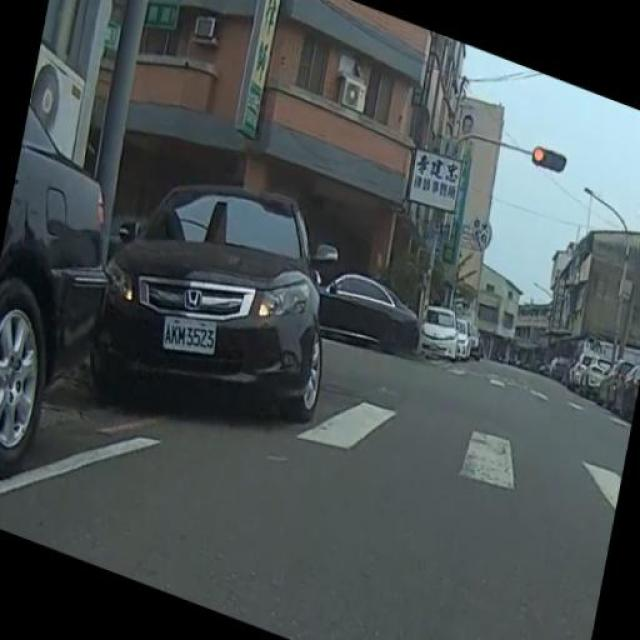illegalparking: (74, 162, 340, 454)
